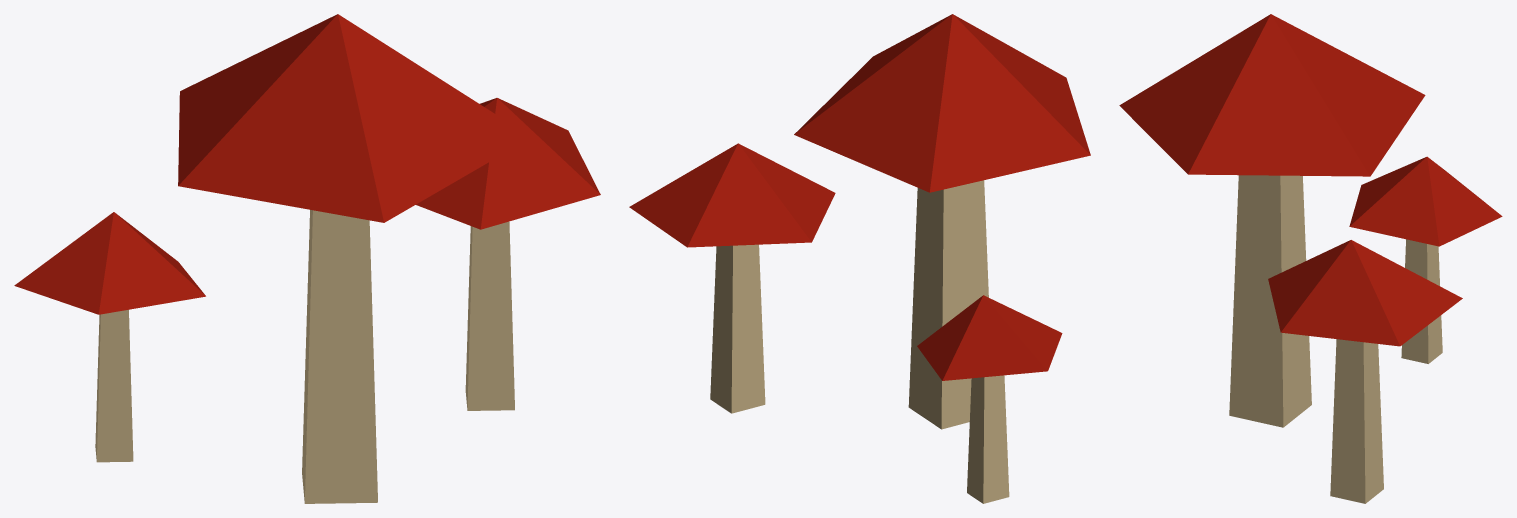
File: world_mushrooms_a.fbx
3 renders of one model, left to right at view 1: azimuth 30°, elevation 25°; view 2: azimuth 150°, elevation 25°; view 3: azimuth 270°, elevation 25°, orthographic. The views are drawn at different scales.
Parts seen in each view (by area): view 1: world_mushrooms_a; view 2: world_mushrooms_a; view 3: world_mushrooms_a.
Boxes of the visible parts, x1,y1,x2,y2 form: world_mushrooms_a: [14, 14, 600, 503]; world_mushrooms_a: [629, 14, 1090, 503]; world_mushrooms_a: [1119, 14, 1502, 503].
Bounding box in the file's own units: 234 × 202 × 177.
